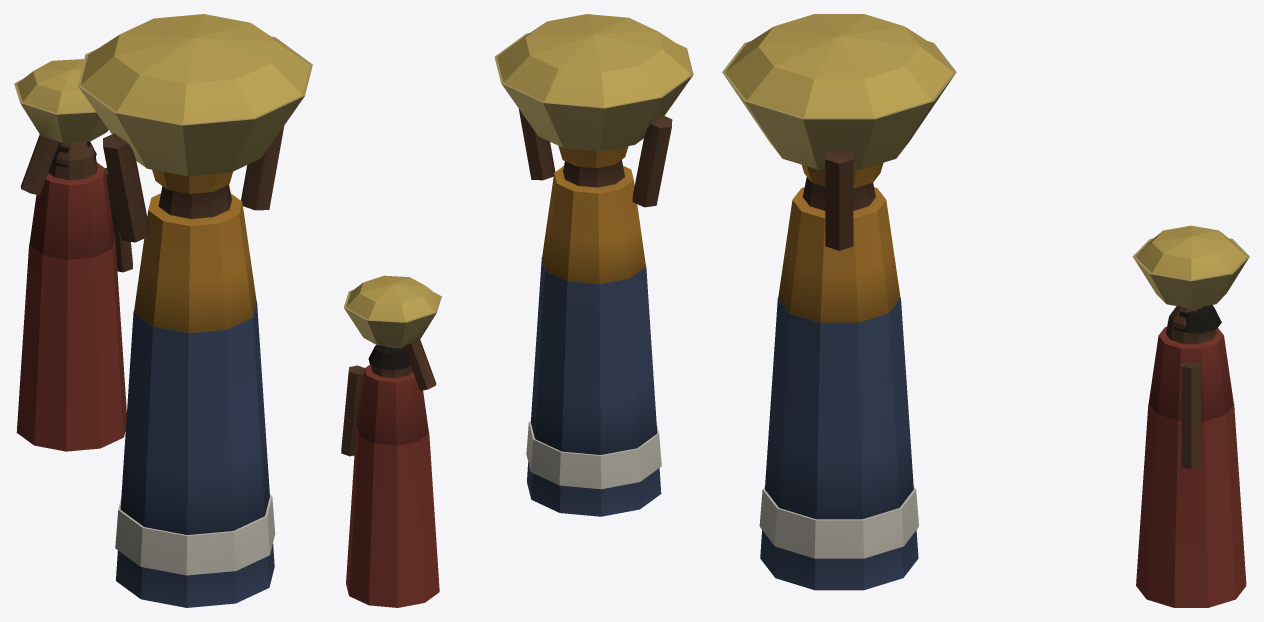
File: handcart.glb
3 renders of one model, left to right at view 1: azimuth 30°, elevation 25°; view 2: azimuth 150°, elevation 25°; view 3: azimuth 270°, elevation 25°, orthographic. The views are drawn at different scales.
Visible parts, largest first — view 1: base; view 2: base; view 3: base.
Boxes of the visible parts, bbox=[...] form: base: bbox=[14, 14, 312, 607]; base: bbox=[341, 14, 693, 607]; base: bbox=[722, 14, 1249, 607].
Size of the model in its own units: 0.834 by 1.97 by 1.8.
